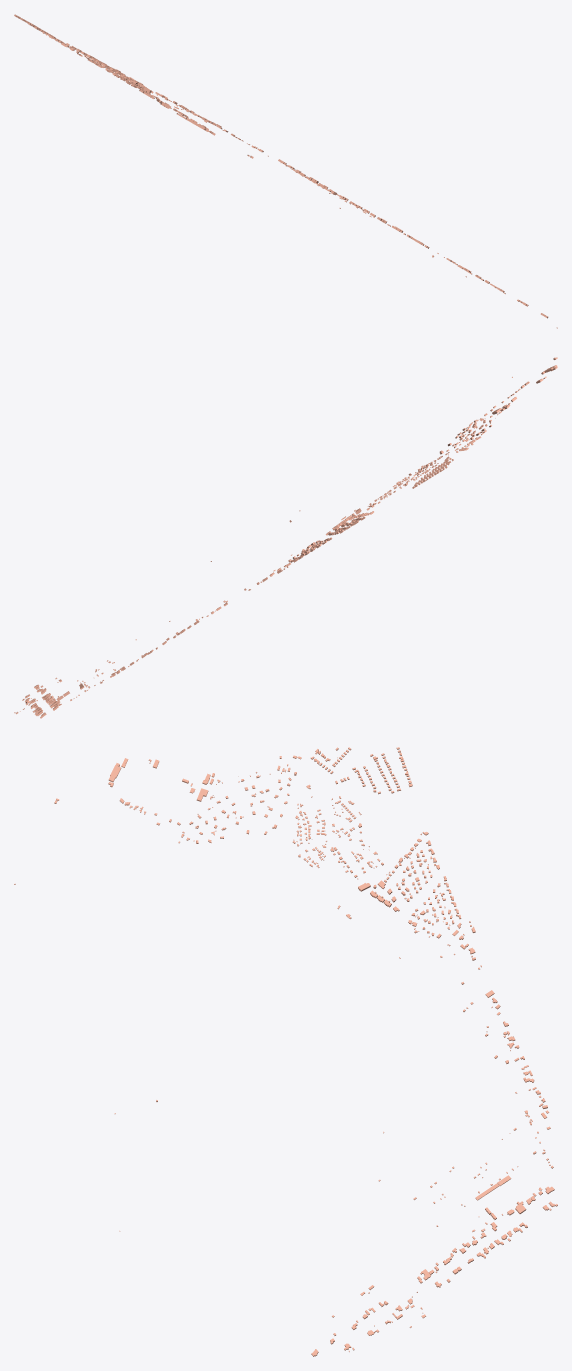
3 renders of one model, top to bottom at view 1: azimuth 30°, elevation 25°; view 2: azimuth 150°, elevation 25°; view 3: azimuth 270°, elevation 25°, orthographic. The views are drawn at different scales.
Size of the model in its own units: 1935 by 1479 by 1919.
